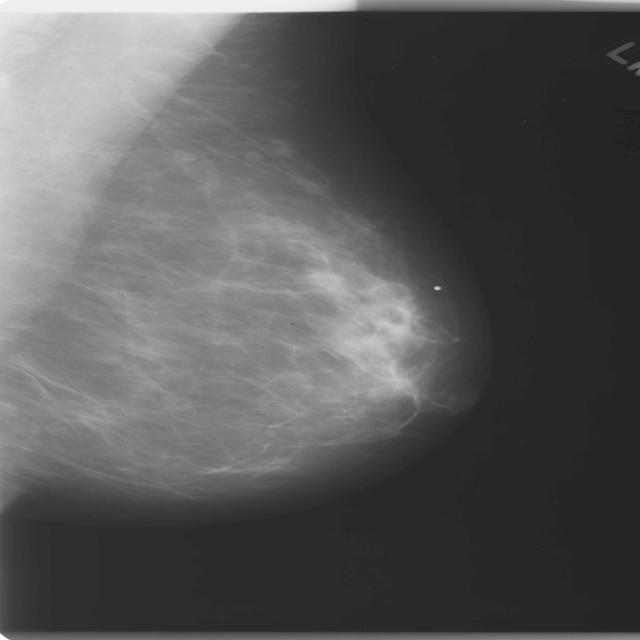tumour: (304, 268, 347, 296)
